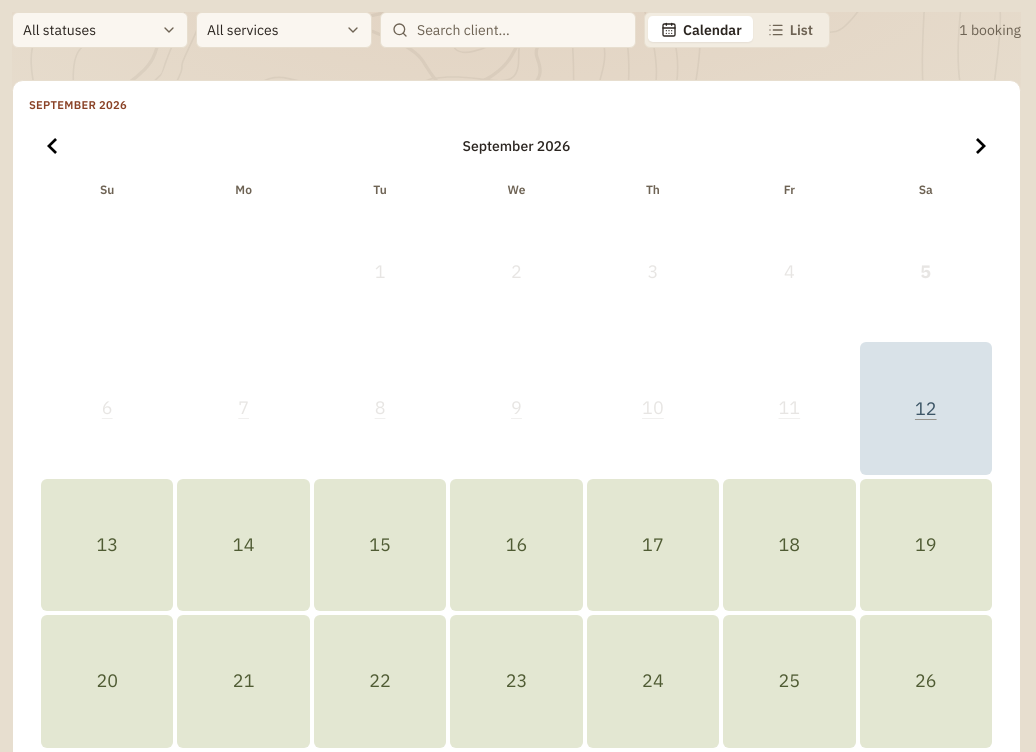
Test: BookingsCalendarClient month navigation › moves both captions and asks for the new month's rows on Next Month
This screenshot has width=1036, height=752.
Click the button named "next month" at (980, 146), box [964,130,996,162]
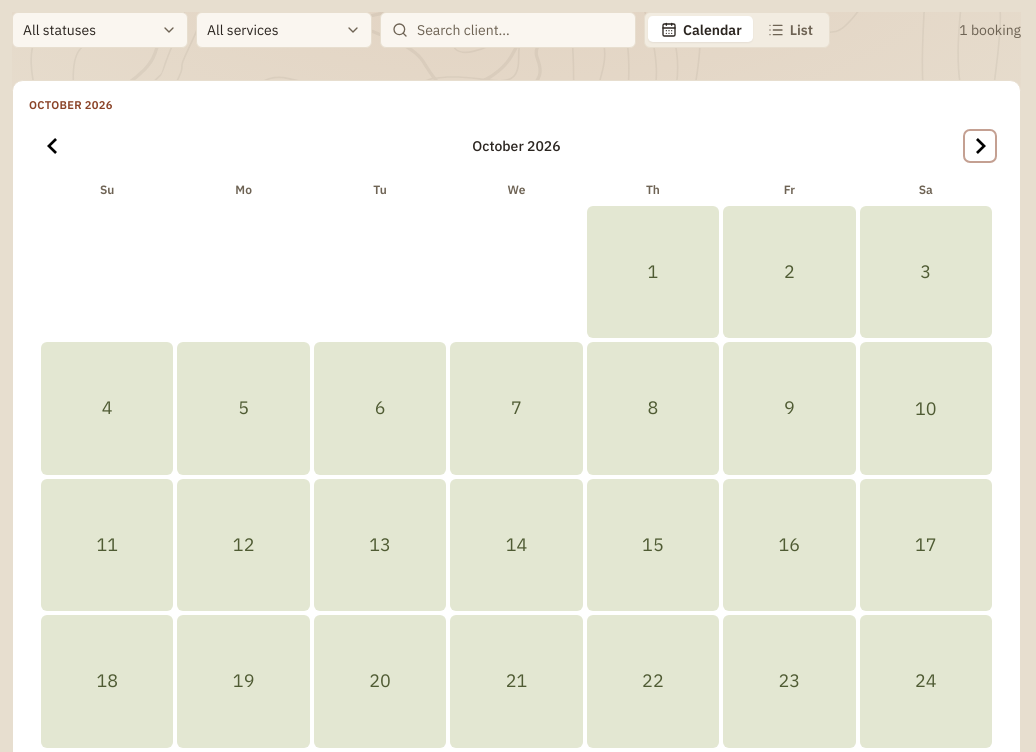
Expected: the text "October 2026" is shown 2 times, [29,98,113,112]; [472,136,561,156]
Now the text "September 2026" is gone
